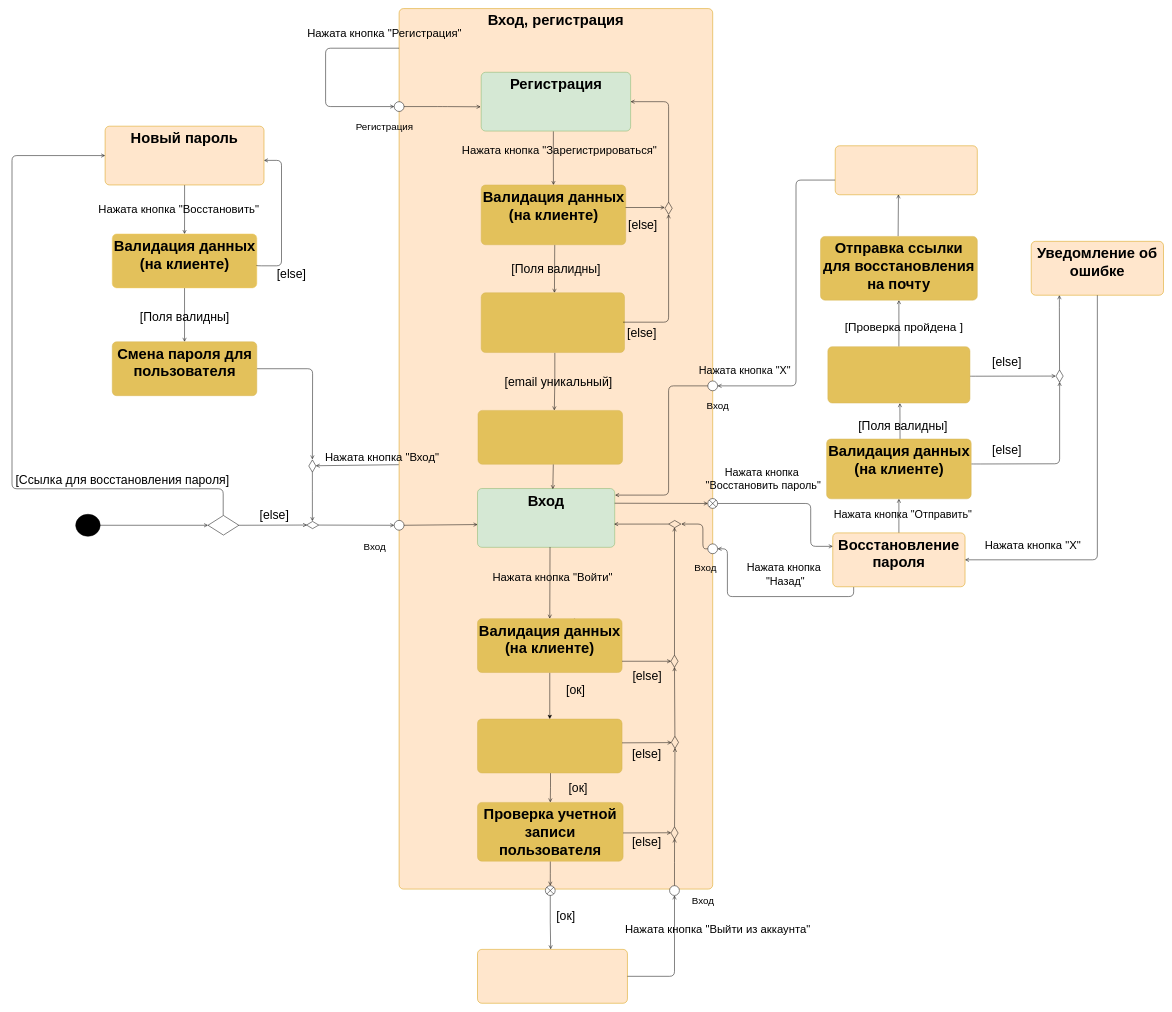
Some shapes in this 1172 by 1012 pixel diagram are drawn without their labels. The shapes that lost their labels are listed below. From the top down, each one's box as (x1, y1, x2, y2) in pixels, then its label:
(835, 145, 977, 195): Уведомление об отправке ссылки
(481, 292, 625, 353): Проверка уникальности email
(827, 346, 970, 403): Проверка наличия email в базе
(478, 410, 623, 464): Сохранение данных
(477, 719, 622, 773): Валидация данных (на сервере)
(477, 949, 627, 1003): Мой профиль
